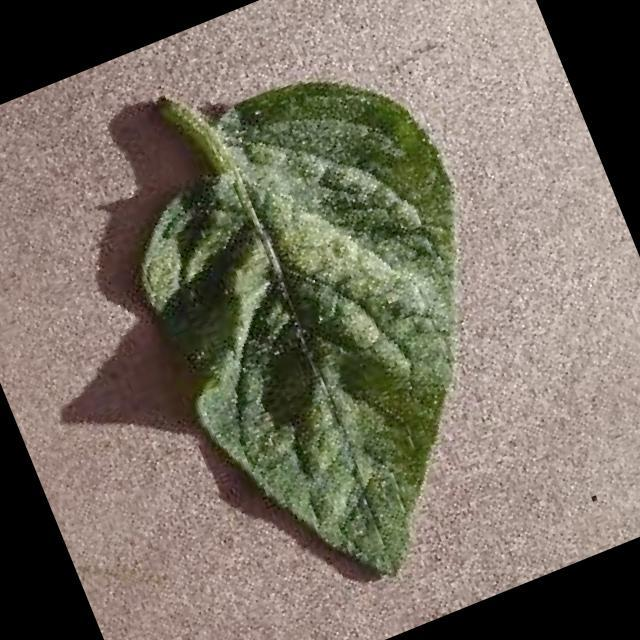Tomato spider mites leaf: (95, 36, 586, 627)
